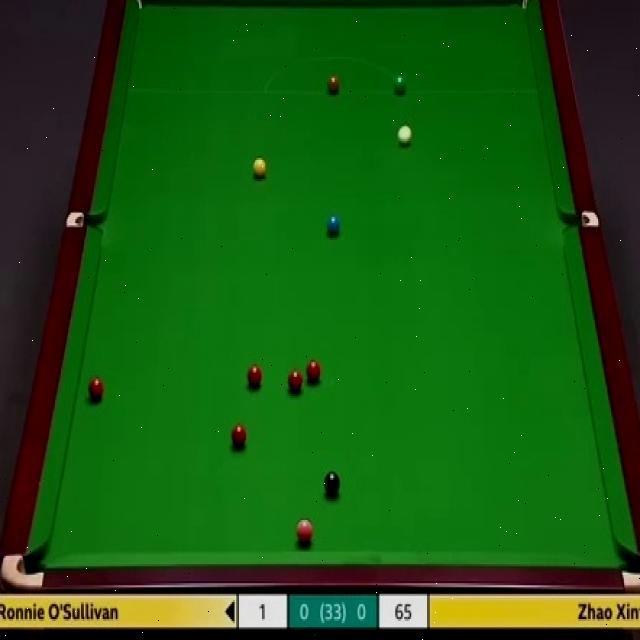black-ball: (322, 470, 338, 494)
blue-ball: (326, 215, 342, 239)
brown-ball: (327, 71, 339, 93)
green-ball: (394, 73, 407, 94)
pink-ball: (295, 518, 315, 545)
red-ball: (286, 366, 304, 394), (87, 375, 104, 403), (232, 423, 246, 449), (247, 367, 263, 388), (306, 361, 321, 382)
white-ball: (398, 123, 412, 146)
yellow-ball: (253, 157, 266, 177)
